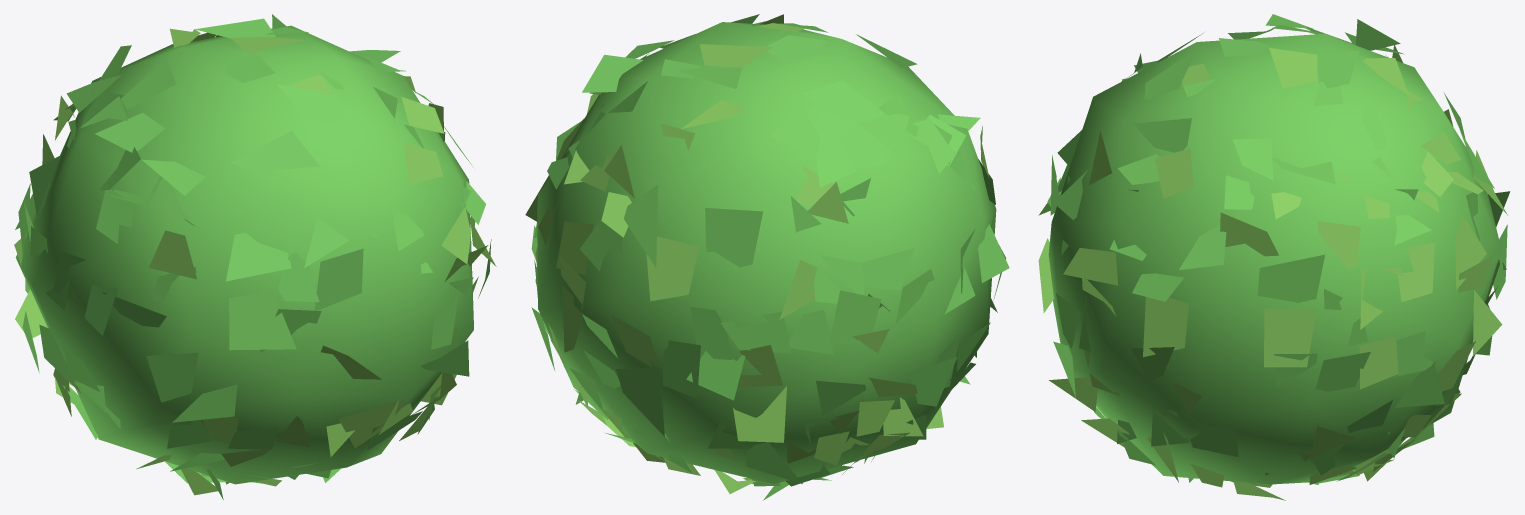
File: Bush.fbx
3 renders of one model, left to right at view 1: azimuth 30°, elevation 25°; view 2: azimuth 150°, elevation 25°; view 3: azimuth 270°, elevation 25°, orthographic.
Visible parts, largest first — view 1: Cube.001; view 2: Cube.001; view 3: Cube.001.
Part boxes in pixels (x1,y1,x2,y2): Cube.001: (14, 14, 496, 499); Cube.001: (525, 14, 1009, 500); Cube.001: (1038, 14, 1510, 500).
Size of the model in its own units: 178 by 174 by 174.
